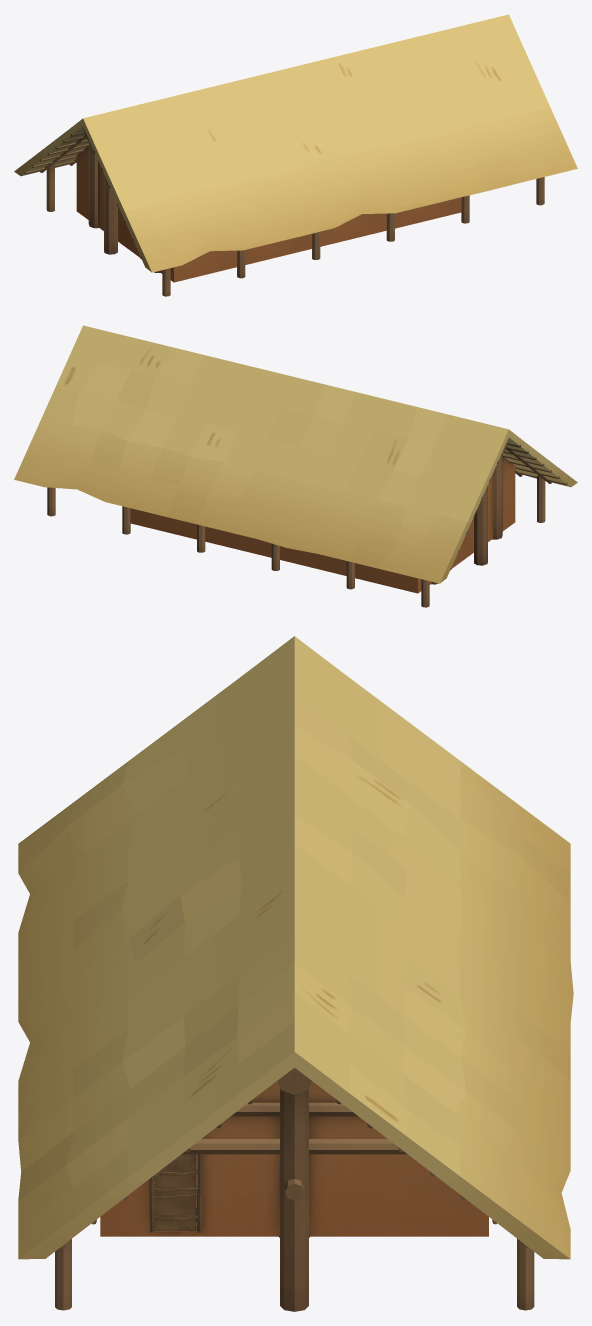
Rendered from House1.gltf.
3 renders of one model, top to bottom at view 1: azimuth 30°, elevation 25°; view 2: azimuth 150°, elevation 25°; view 3: azimuth 270°, elevation 25°, orthographic. The views are drawn at different scales.
Parts seen in each view (by area): view 1: House; view 2: House; view 3: House.
Part boxes in pixels (x1,y1,x2,y2): House: (14,14,577,296); House: (14,325,577,607); House: (18,636,573,1311).
Size of the model in its own units: 17.74 by 5.59 by 10.01.
1 material, 1 textured.
